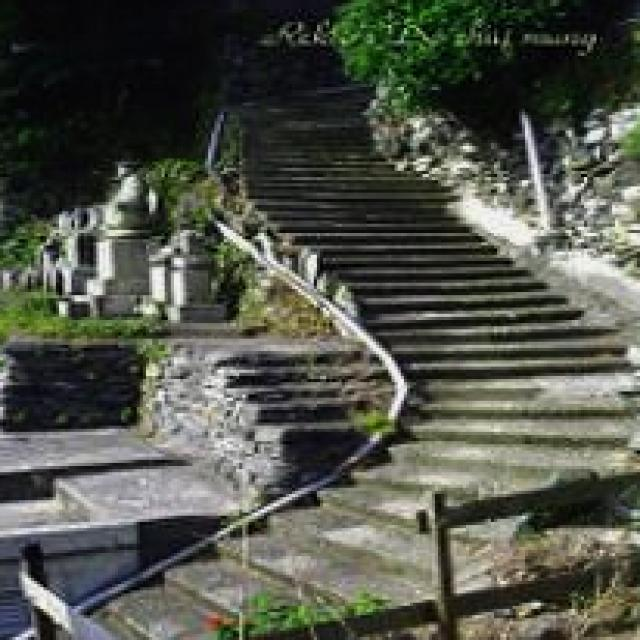upstair: (237, 156, 635, 408)
